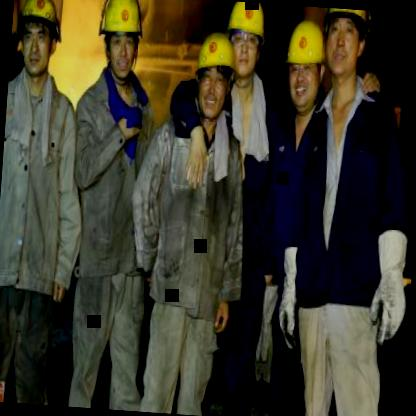helmet: (318, 8, 375, 98), (94, 0, 151, 85), (188, 26, 240, 118), (8, 0, 64, 84), (282, 14, 328, 104), (224, 1, 268, 82)
